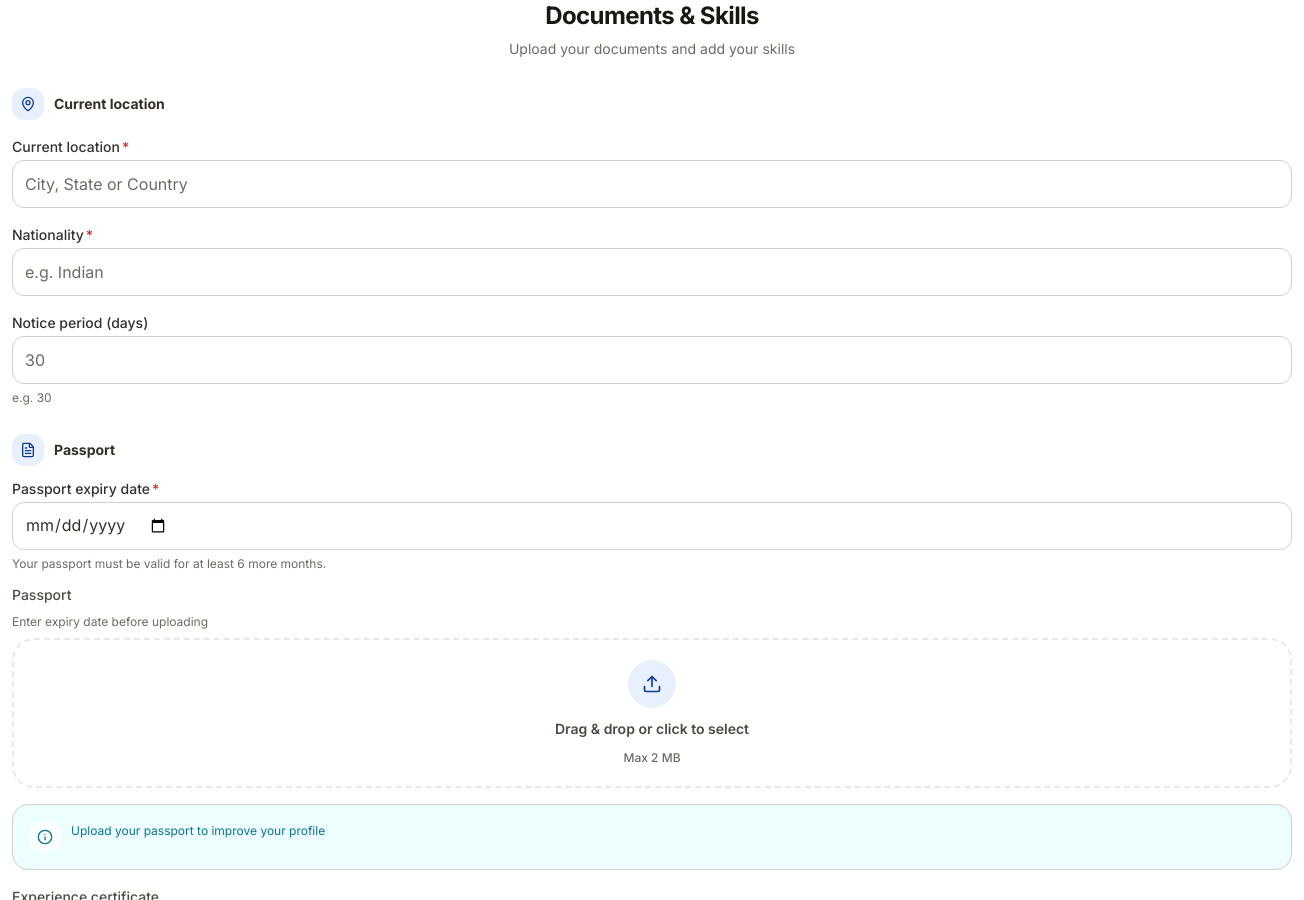
Test: DocumentsSkillsStep — notice period is optional › KEEPS location and nationality blocking — this change is scoped to notice period
Type "Gorakhpur" into the field with placeholder "City, State or Country" at (652, 184), box [12, 160, 1292, 208]
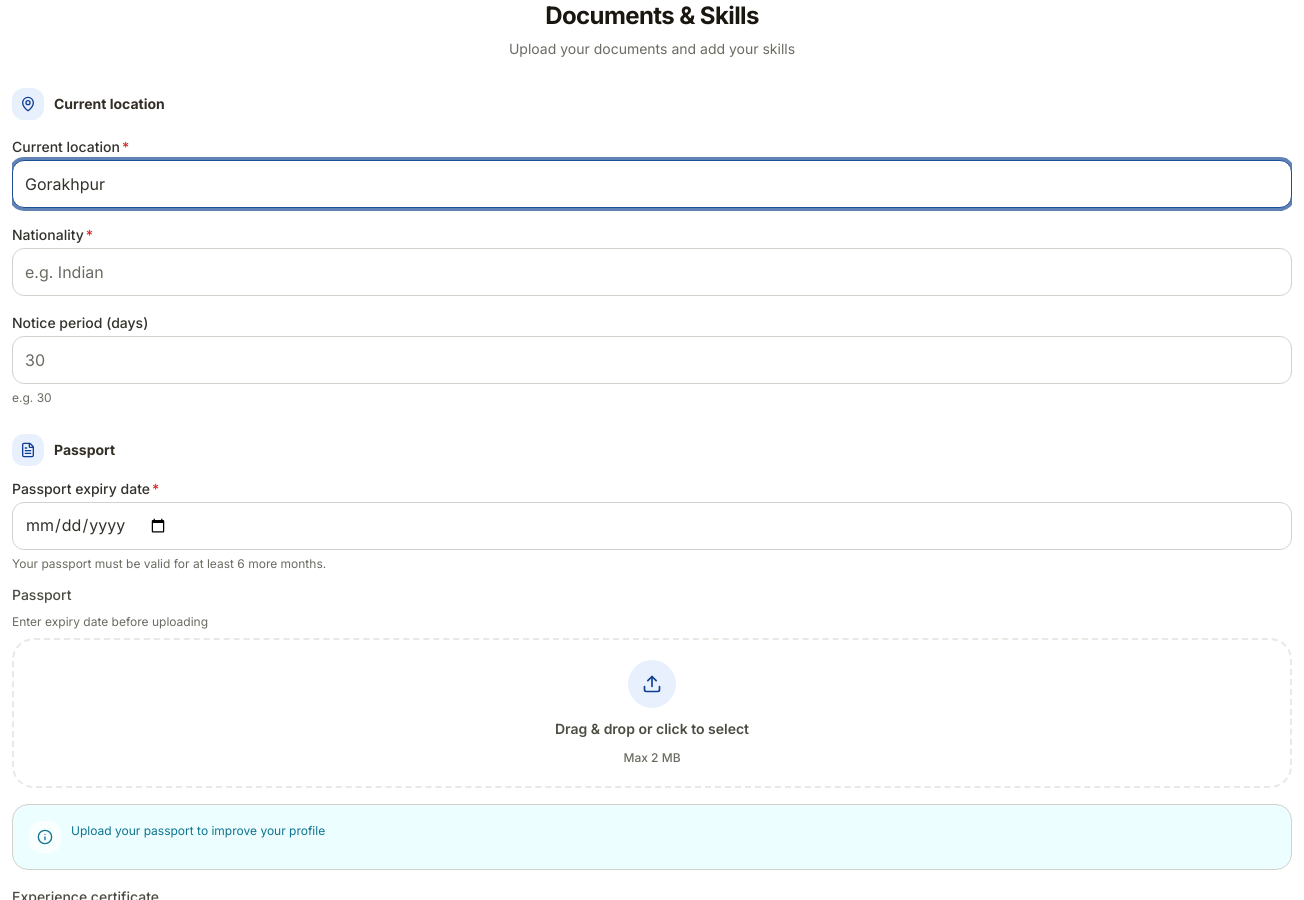
Type "Indian" into the field with placeholder "e.g. Indian" at (652, 272), box [12, 248, 1292, 296]
(page scrolled)
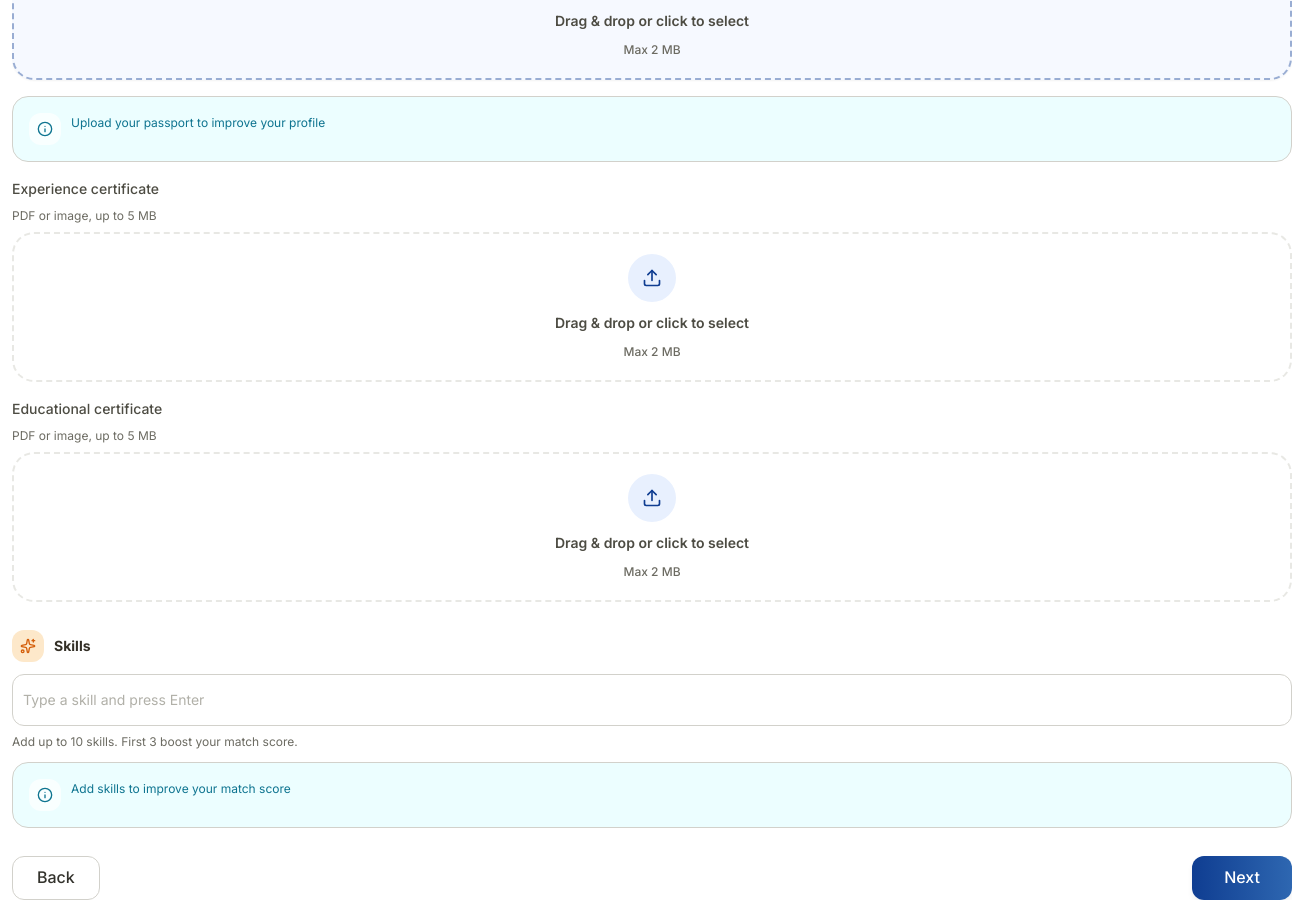
Now the button "Next" is enabled, box [1192, 856, 1292, 899]
